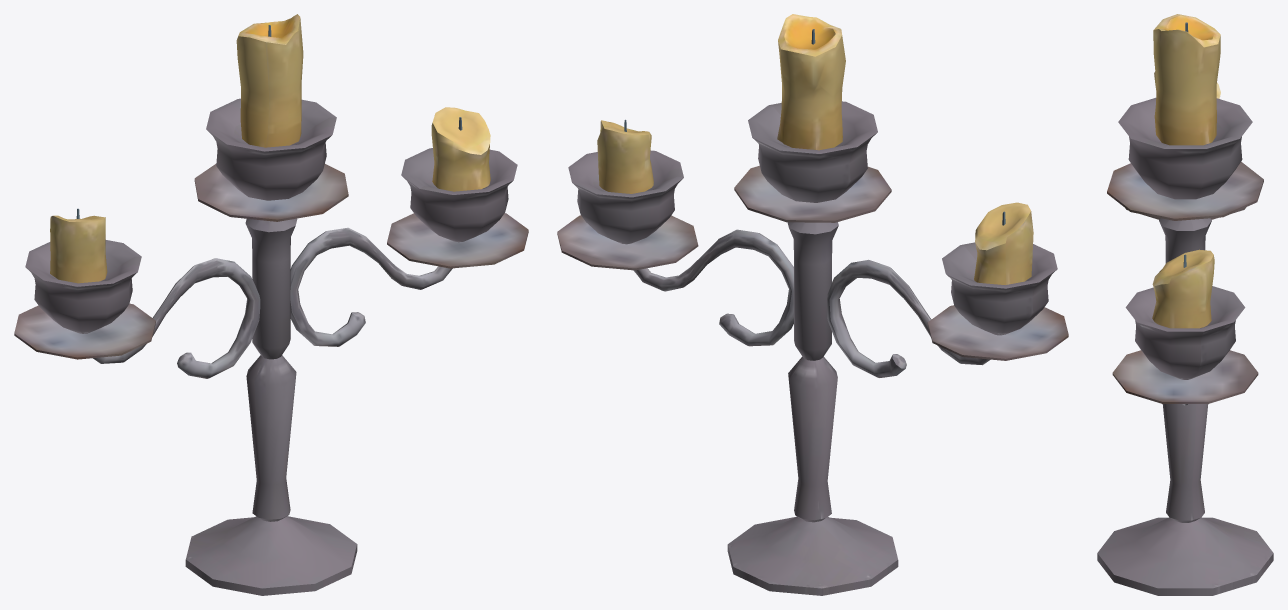
File: CandleStick_Triple.glb
3 views of the same model, side by side, from view 1: azimuth 30°, elevation 25°; view 2: azimuth 150°, elevation 25°; view 3: azimuth 270°, elevation 25° (orthographic).
Visible parts, largest first — view 1: CandleStick_Triple; view 2: CandleStick_Triple; view 3: CandleStick_Triple.
Boxes of the visible parts, x1,y1,x2,y2 form: CandleStick_Triple: [14, 14, 528, 595]; CandleStick_Triple: [557, 14, 1068, 595]; CandleStick_Triple: [1097, 14, 1273, 595].
Bounding box in the file's own units: 0.4423 × 0.4633 × 0.1364.
2 materials, 2 textured.
